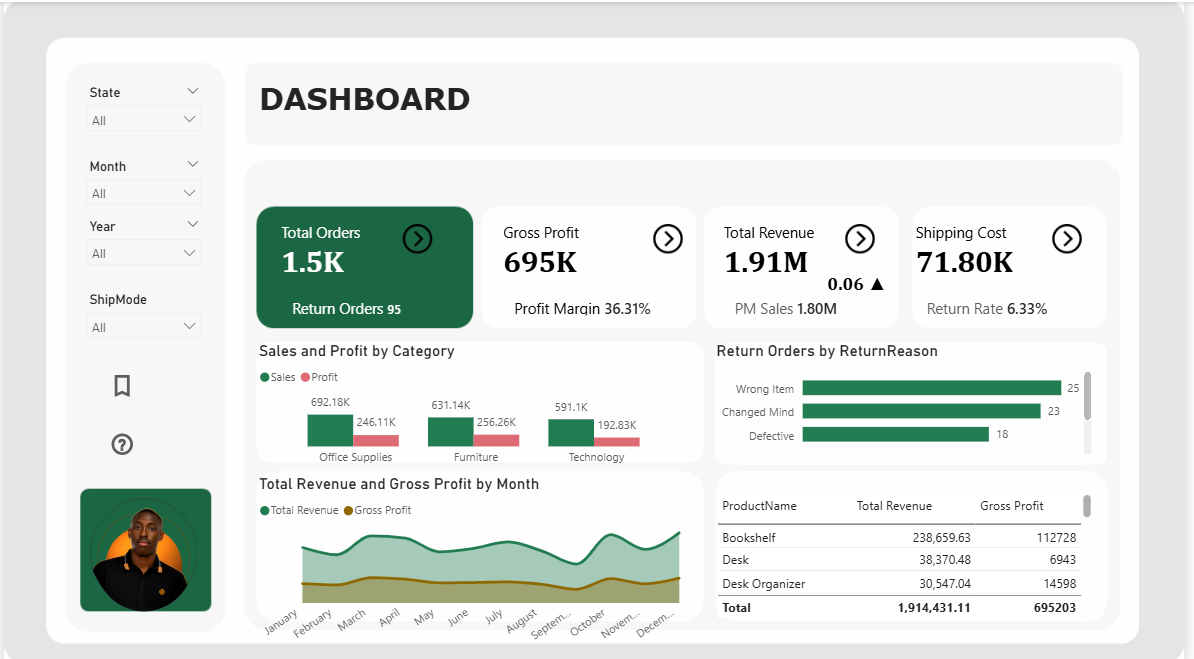

The dashboard page shown, as its layout file describes it:
{"tool":"powerbi","page":{"name":"Page 2","canvas":[1280,720],"ordinal":0},"visuals":[{"type":"slicer","fields":{"Values":["Orders.OrderDate.Variation.Date Hierarchy.Month"]},"box":[79.7,164.6,144,64],"z":0},{"type":"slicer","fields":{"Values":["Orders.OrderDate.Variation.Date Hierarchy.Year"]},"box":[79.7,228.6,144,64],"z":1000},{"type":"cardVisual","fields":{"Data":["kpis.Total Orders"]},"box":[272,224,240,144],"z":2000},{"type":"image","box":[416,240,64,32],"z":3000},{"type":"image","box":[688,240,64,32],"z":4000},{"type":"image","box":[896,240,64,32],"z":5000},{"type":"image","box":[1120,240,64,32],"z":6000},{"type":"cardVisual","fields":{"Data":["kpis.Net Profit"]},"box":[512,224,240,144],"z":7000},{"type":"cardVisual","fields":{"Data":["kpis.Total Revenue"]},"box":[752,224,240,144],"z":8000},{"type":"cardVisual","fields":{"Data":["kpis.Shipping Cost"]},"box":[960,224,240,144],"z":9000},{"type":"cardVisual","fields":{"Data":["kpis.MOM trend sales"]},"box":[864,272,160,64],"z":10000},{"type":"lineChart","fields":{"Y":["kpis.Total Revenue","kpis.Gross Profit"],"Category":["Orders.OrderDate.Variation.Date Hierarchy.Month"]},"box":[272,512,480,192],"z":11000},{"type":"clusteredColumnChart","fields":{"Category":["Orders.Category"],"Y":["kpis.Total Revenue","Sum(Orders.Profit)"]},"box":[272,368,480,144],"z":12000},{"type":"tableEx","fields":{"Values":["Orders.ProductName","kpis.Total Revenue","kpis.Gross Profit"]},"box":[768,528,416,144],"z":13000},{"type":"clusteredBarChart","fields":{"Category":["Returns.ReturnReason"],"Y":["kpis.Return Orders"]},"box":[768,368,416,128],"z":14000},{"type":"image","box":[80,512,144,176],"z":15000},{"type":"slicer","fields":{"Values":["Customers.State"]},"box":[79.7,84.6,144,64],"z":16000},{"type":"slicer","fields":{"Values":["Orders.ShipMode"]},"box":[79.7,308.6,144,64],"z":17000},{"type":"textbox","box":[272,80,432,64],"z":18000},{"type":"actionButton","box":[112,464,64,32],"z":19000},{"type":"actionButton","box":[112,400,96,32],"z":21000}]}

Visuals, with their boxes in screenshot pixels (x1, y1, x2, y2), scaled from the page's 1280x720 canvas onto the 1194x659 screenshot:
slicer - Orders.OrderDate.Variation.Date Hierarchy.Month: (left=74, top=151, right=209, bottom=209)
slicer - Orders.OrderDate.Variation.Date Hierarchy.Year: (left=74, top=209, right=209, bottom=268)
cardVisual - kpis.Total Orders: (left=254, top=205, right=478, bottom=337)
image: (left=388, top=220, right=448, bottom=249)
image: (left=642, top=220, right=701, bottom=249)
image: (left=836, top=220, right=896, bottom=249)
image: (left=1045, top=220, right=1104, bottom=249)
cardVisual - kpis.Net Profit: (left=478, top=205, right=701, bottom=337)
cardVisual - kpis.Total Revenue: (left=701, top=205, right=925, bottom=337)
cardVisual - kpis.Shipping Cost: (left=896, top=205, right=1119, bottom=337)
cardVisual - kpis.MOM trend sales: (left=806, top=249, right=955, bottom=308)
lineChart - kpis.Total Revenue x kpis.Gross Profit: (left=254, top=469, right=701, bottom=644)
clusteredColumnChart - Orders.Category x kpis.Total Revenue: (left=254, top=337, right=701, bottom=469)
tableEx - Orders.ProductName x kpis.Total Revenue: (left=716, top=483, right=1104, bottom=615)
clusteredBarChart - Returns.ReturnReason x kpis.Return Orders: (left=716, top=337, right=1104, bottom=454)
image: (left=75, top=469, right=209, bottom=630)
slicer - Customers.State: (left=74, top=77, right=209, bottom=136)
slicer - Orders.ShipMode: (left=74, top=282, right=209, bottom=341)
textbox: (left=254, top=73, right=657, bottom=132)
actionButton: (left=104, top=425, right=164, bottom=454)
actionButton: (left=104, top=366, right=194, bottom=395)
